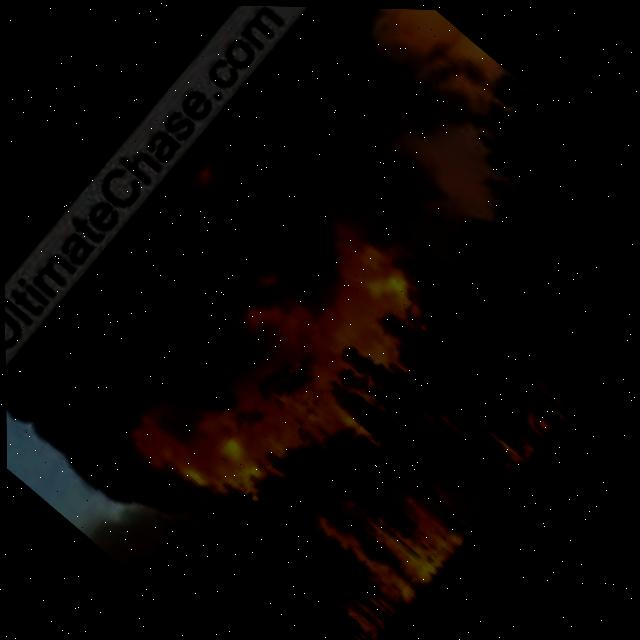Fire: (96, 169, 589, 640), (624, 256, 640, 330)
Smoke: (0, 0, 521, 549), (0, 0, 319, 370)
